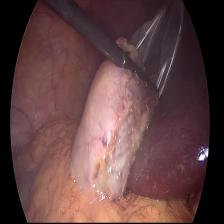Grasper: (118, 47, 159, 100)
Specimen Bag: (116, 2, 188, 86)
